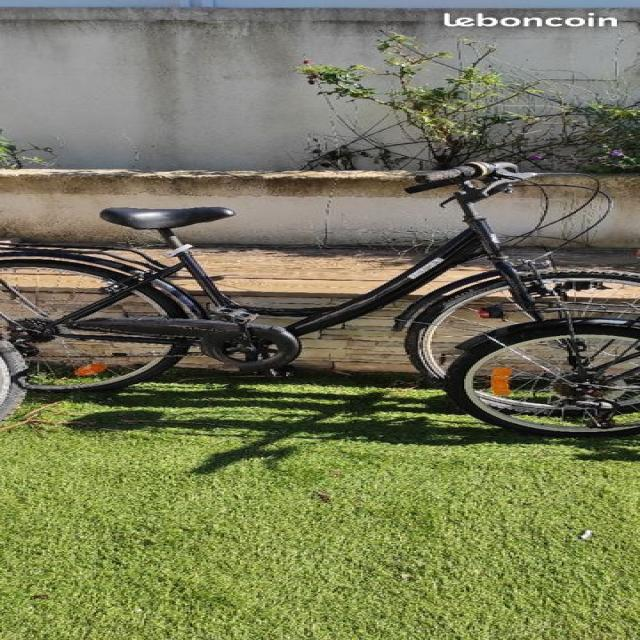Bike: (0, 159, 640, 417)
